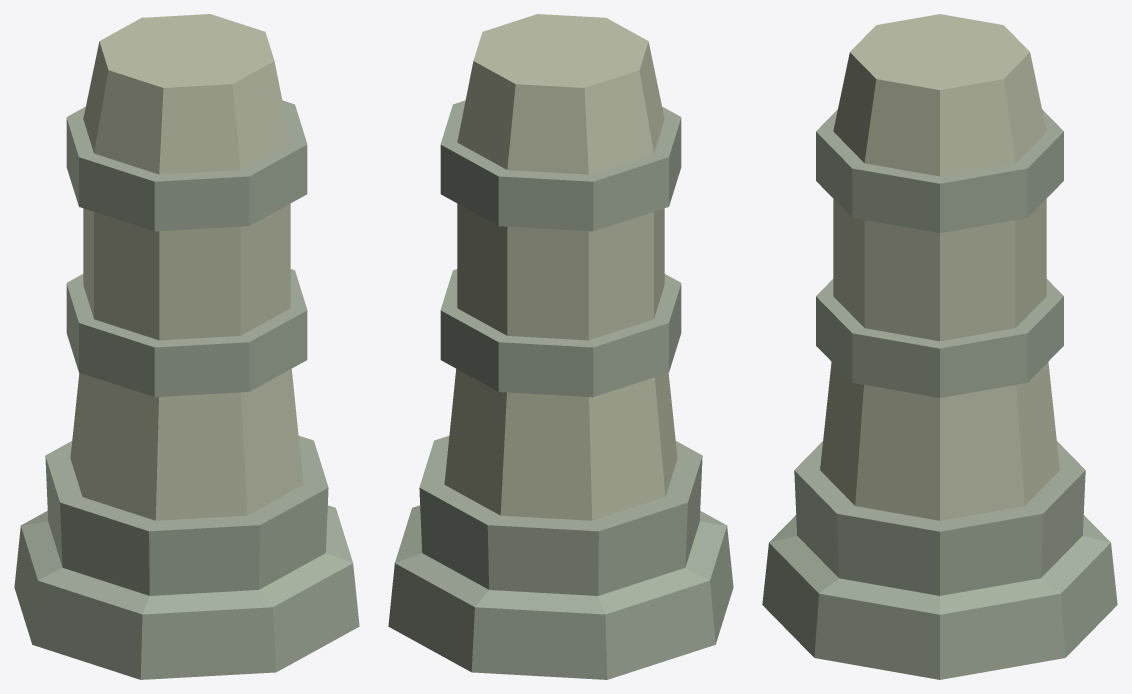
The model's file is Pilier 2.2.fbx.
3 renders of one model, left to right at view 1: azimuth 30°, elevation 25°; view 2: azimuth 150°, elevation 25°; view 3: azimuth 270°, elevation 25°, orthographic.
Parts seen in each view (by area): view 1: Pilier v2.2; view 2: Pilier v2.2; view 3: Pilier v2.2.
Boxes of the visible parts, box(x1,y1,x2,y2) form: Pilier v2.2: box(14, 14, 359, 679); Pilier v2.2: box(388, 14, 733, 679); Pilier v2.2: box(762, 14, 1117, 679).
Bounding box in the file's own units: 898 × 1541 × 898.
